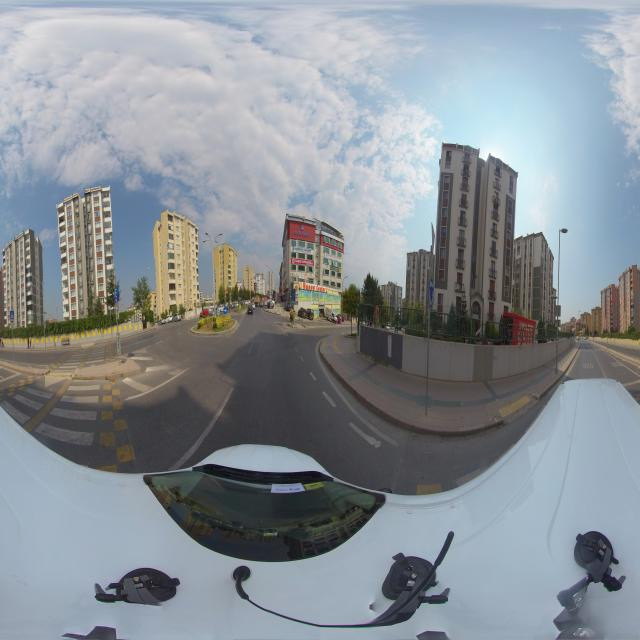SignStore: (299, 282, 328, 293), (291, 258, 314, 266), (291, 246, 313, 254), (324, 253, 341, 263), (330, 265, 341, 273)
